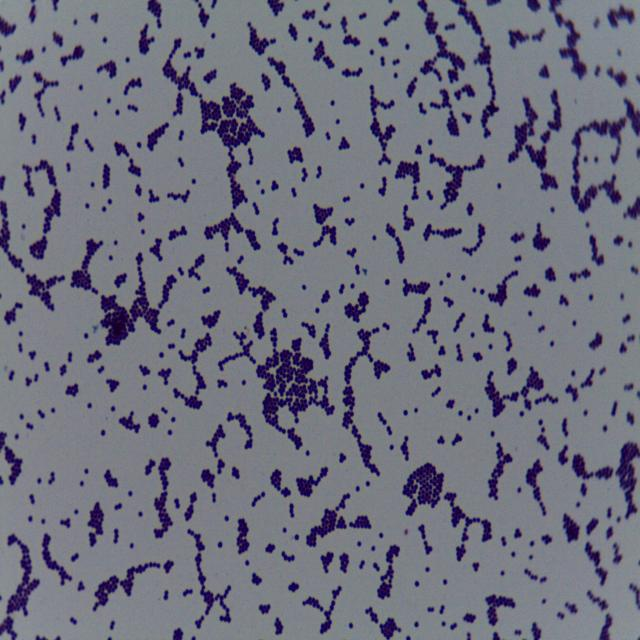Euglena: (1, 2, 638, 639)
